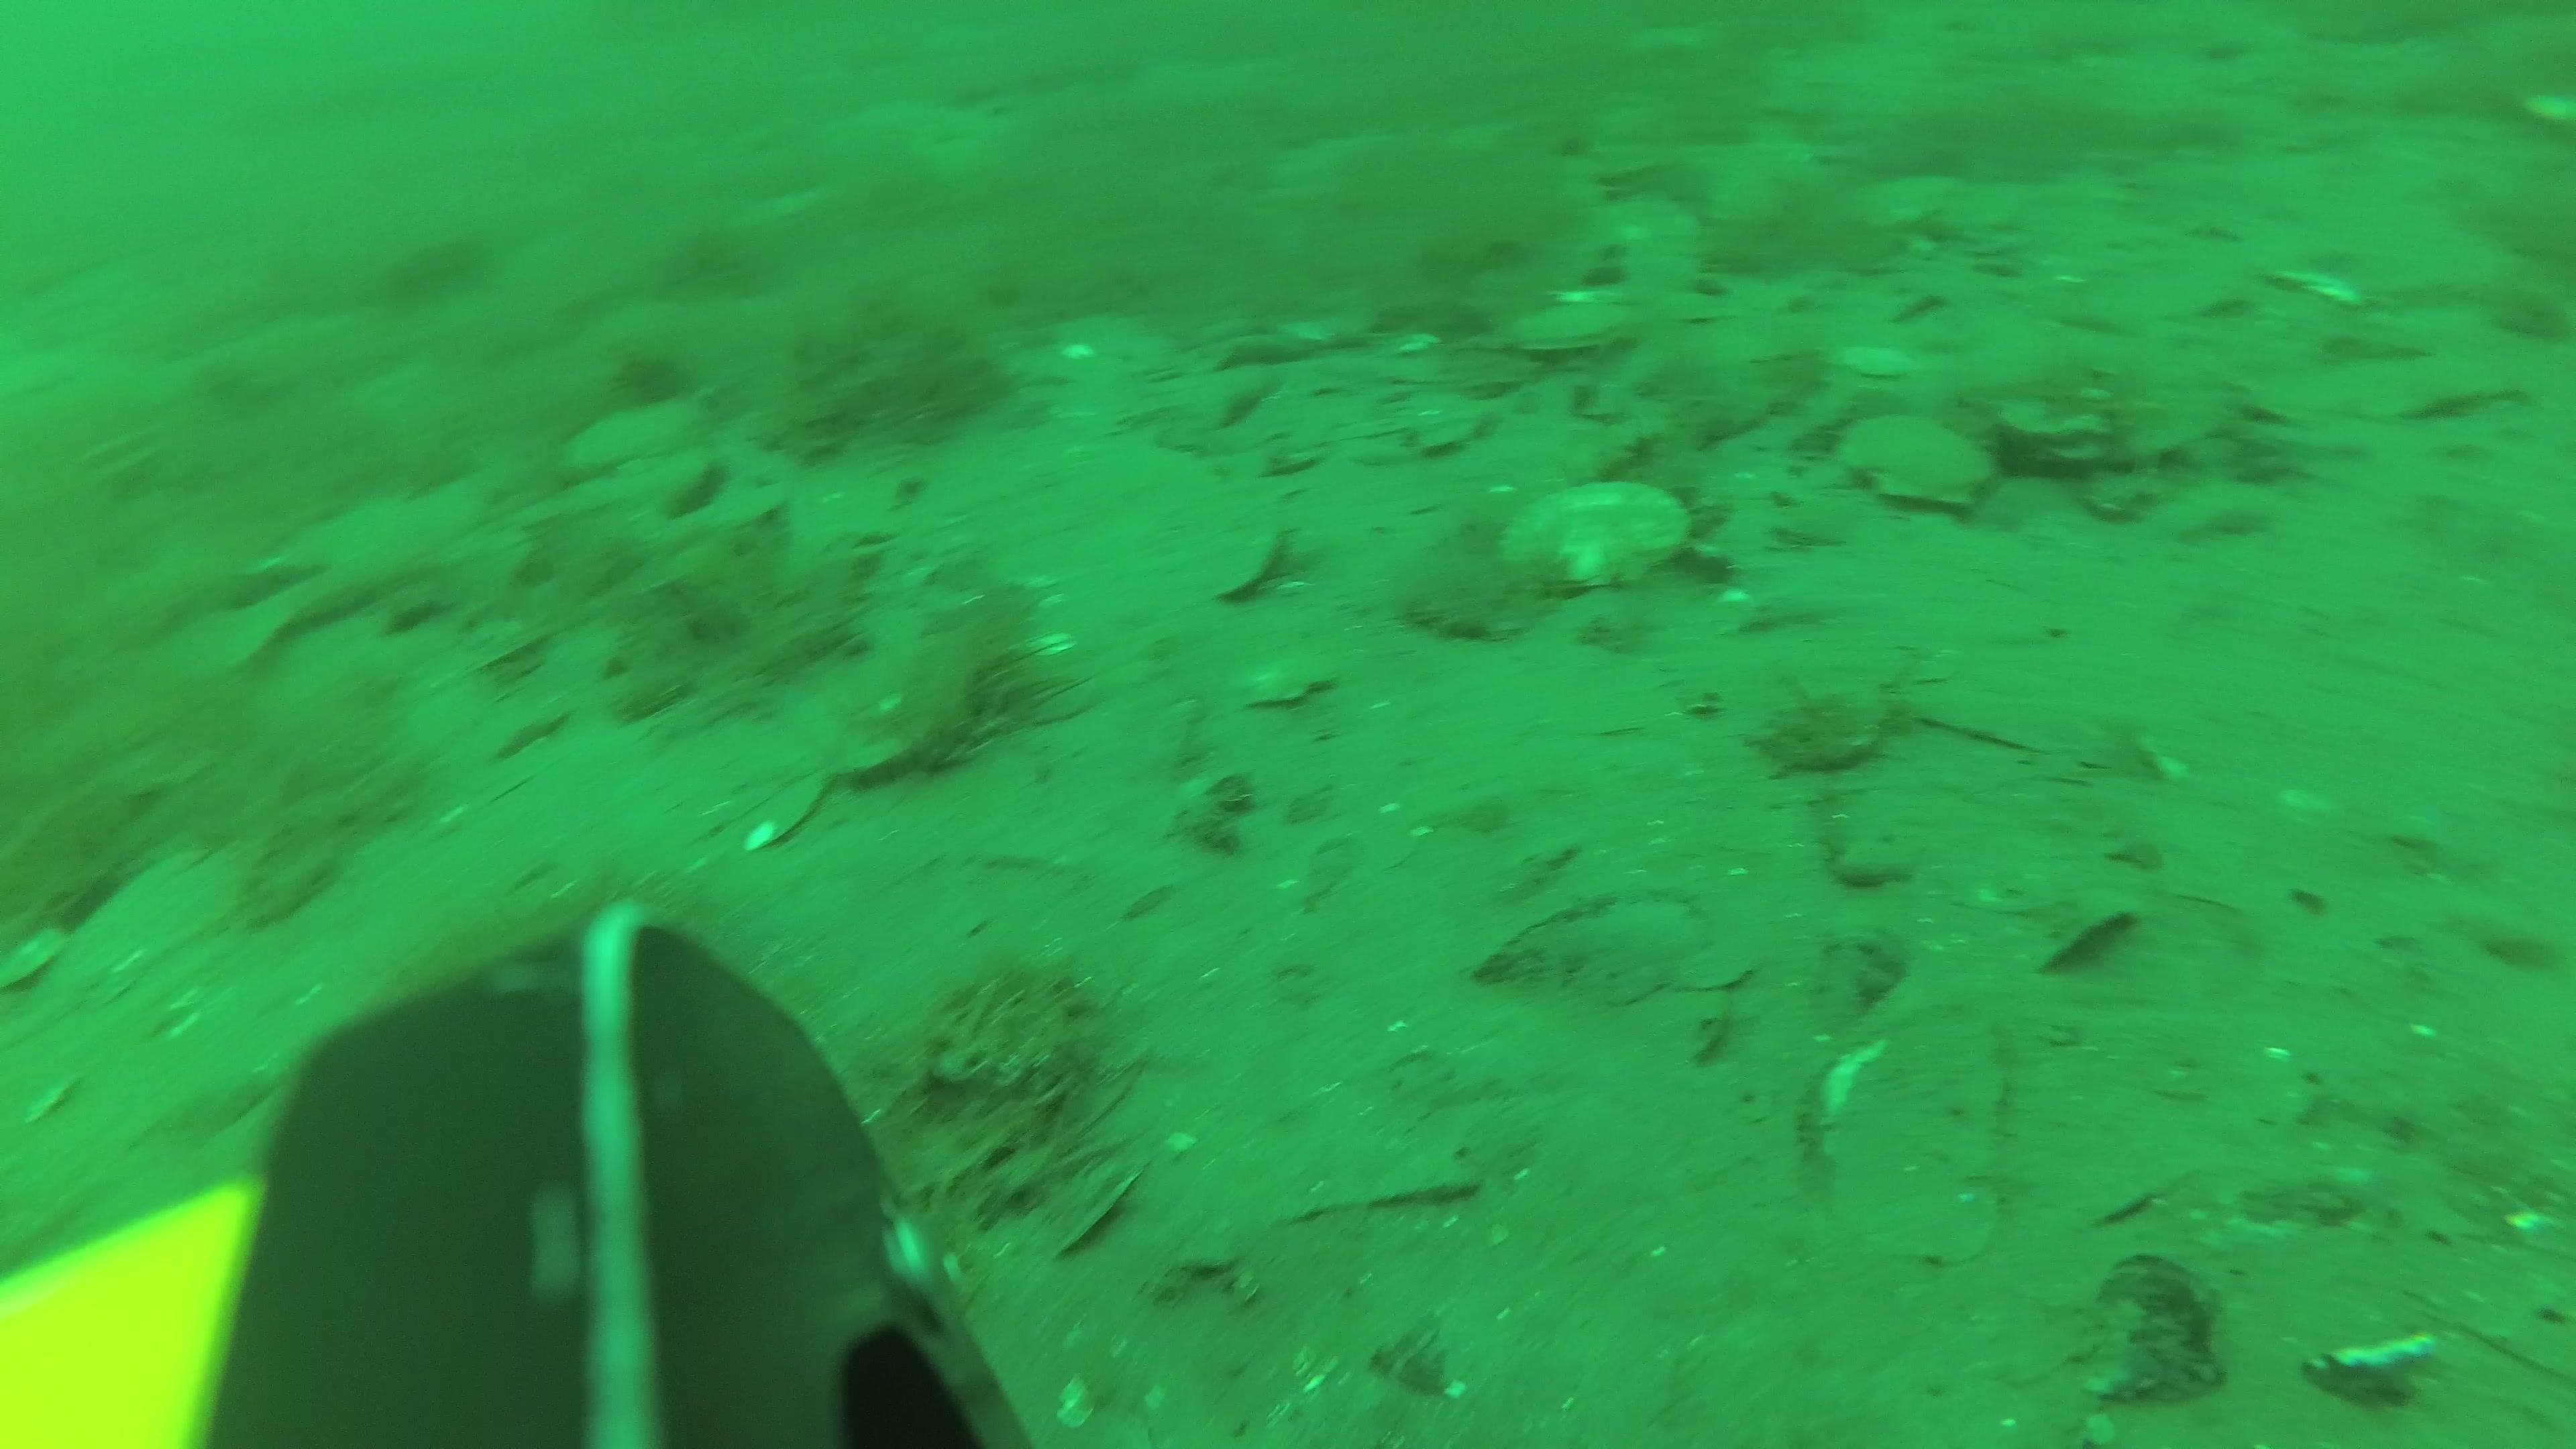scallop: (1483, 478, 1706, 594), (1829, 403, 2005, 517), (1497, 297, 1658, 364), (1375, 395, 1499, 469), (1230, 646, 1346, 717), (1697, 343, 1821, 407), (1217, 524, 1290, 605), (1828, 336, 1921, 384), (1665, 288, 1750, 338), (1254, 433, 1325, 485)
